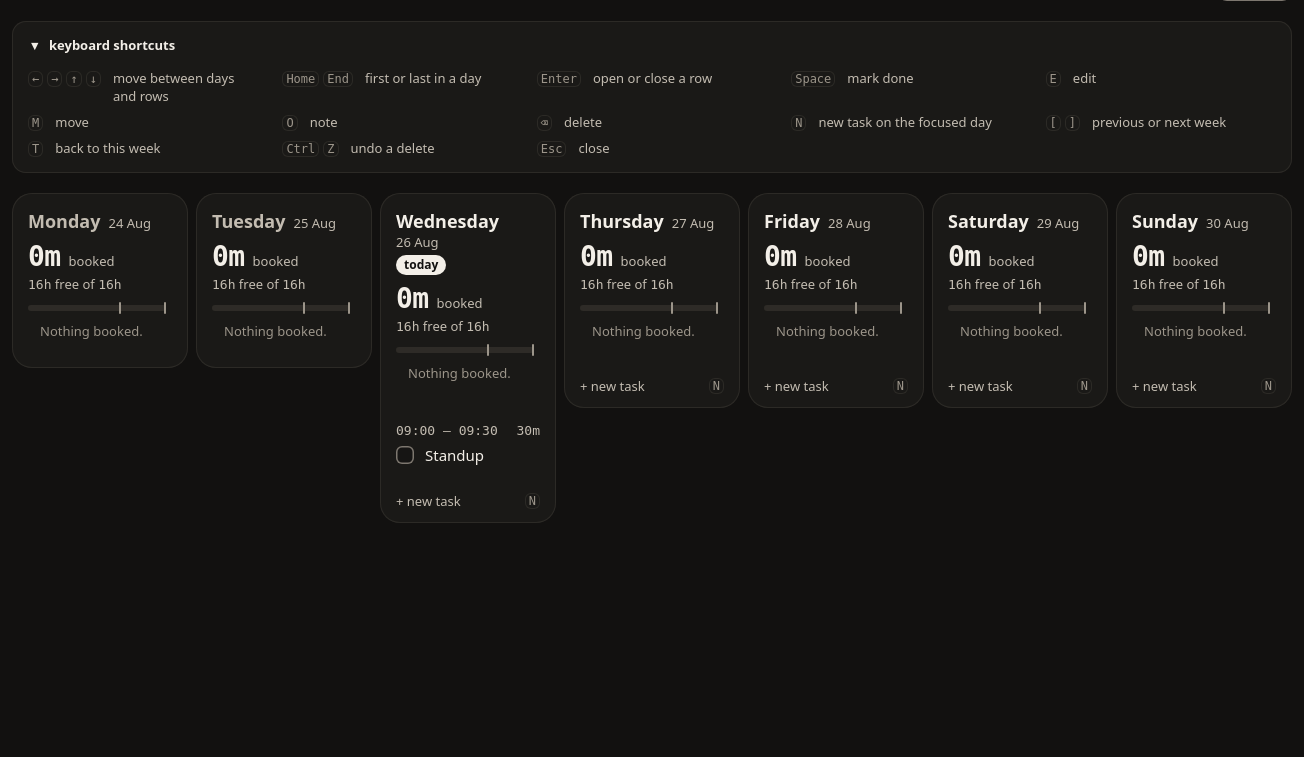
Test: deleting a task that cannot come back › treats a 404 as already deleted: the row goes, and nothing is reported
Click the cell "09:00 – 09:30 30m Standup" at (468, 444), box [384,410,552,479]
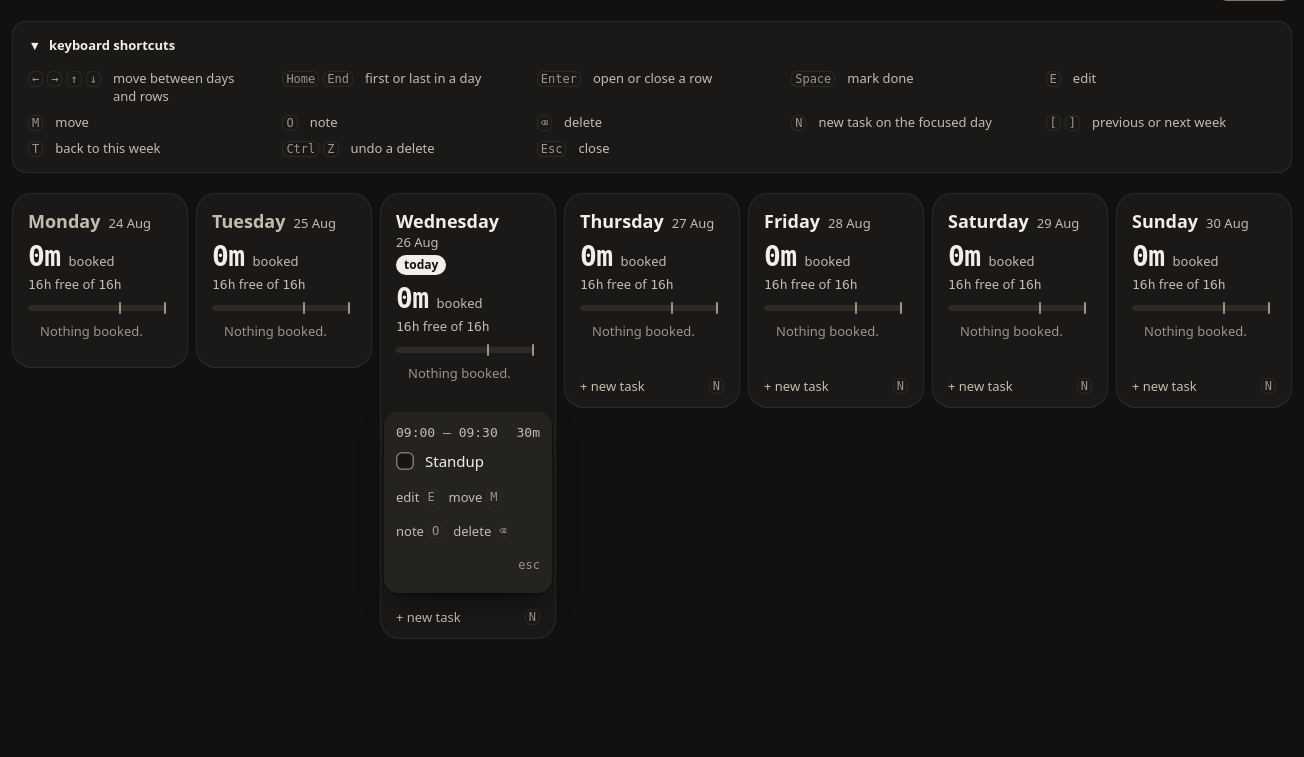
Expected: the cell "09:00 – 09:30 30m Standup edit E move M note O delete ⌫ esc" is shown, [384,412,552,593]
Click the button "delete ⌫" at (482, 531), box [449,515,514,547]
(page scrolled)
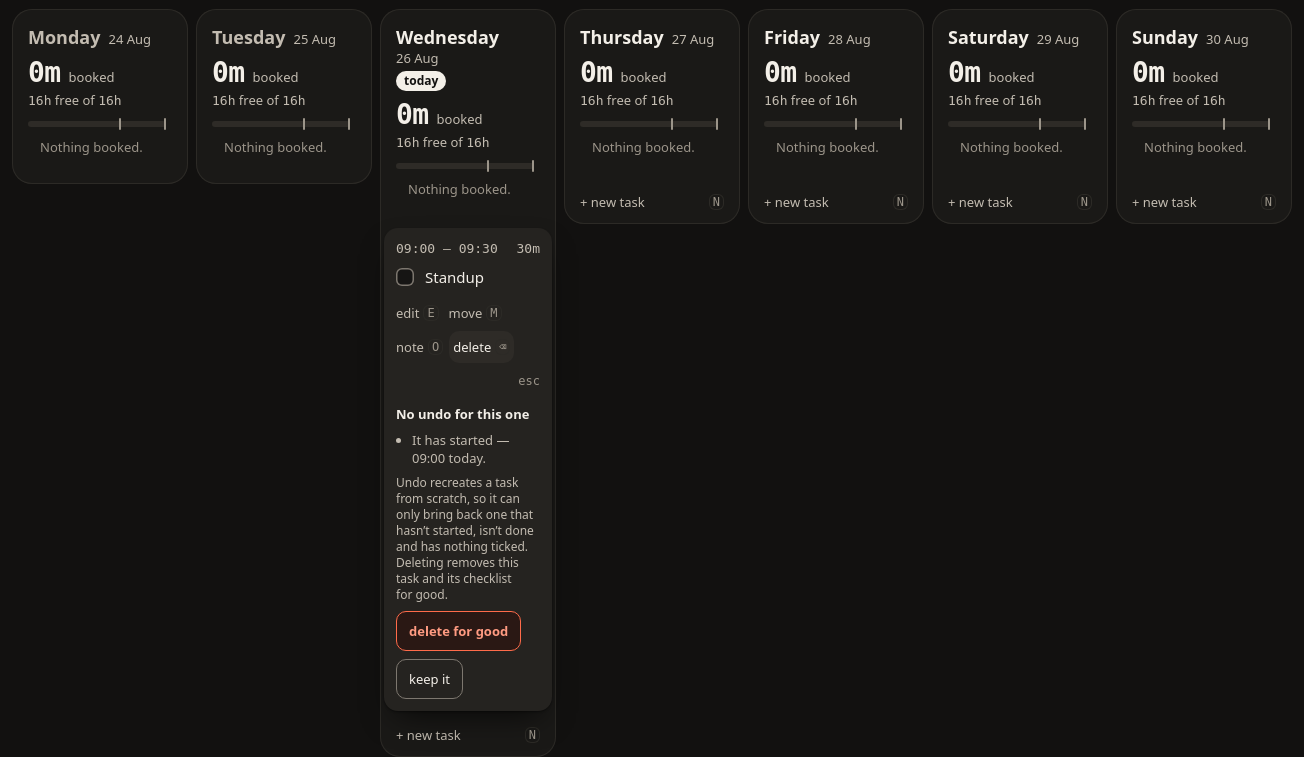
Click the button "delete for good" at (459, 631), box [396,611,521,651]
(page scrolled)
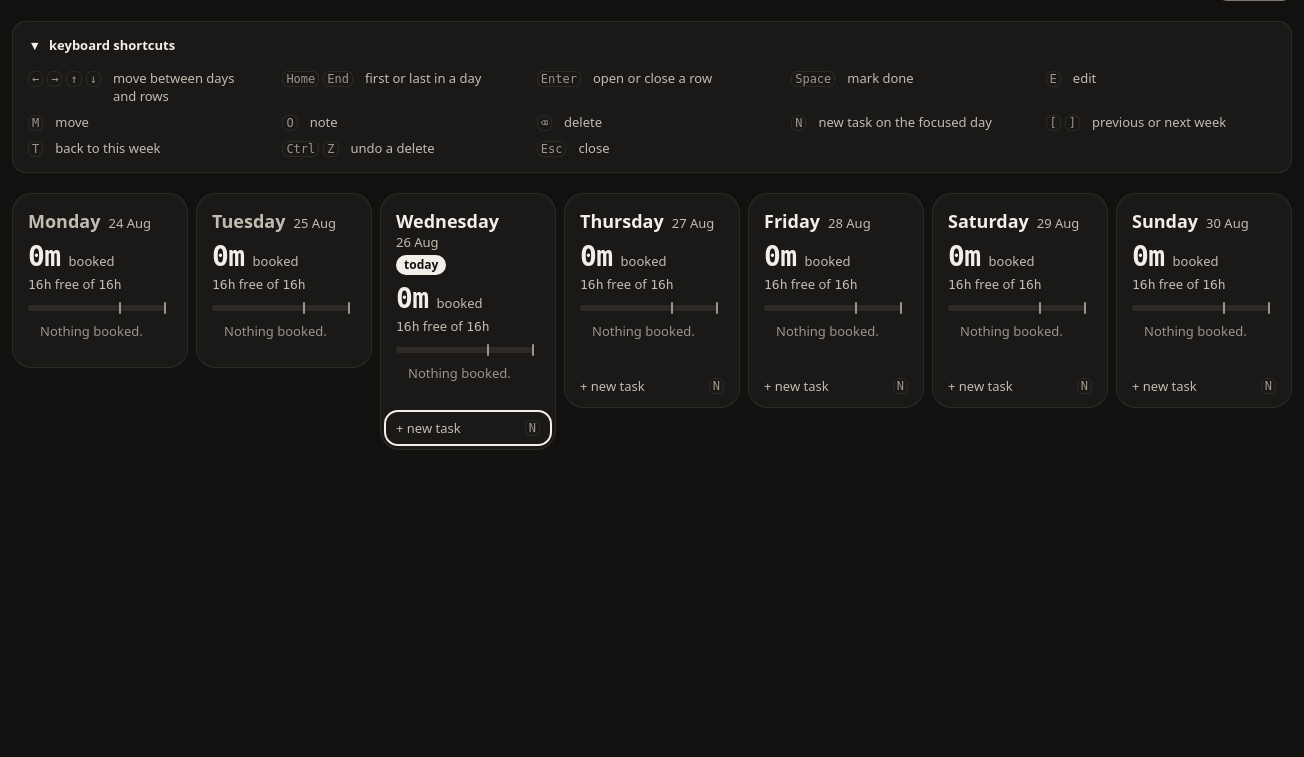
Expected: the cell with id "task-Standup" is gone
